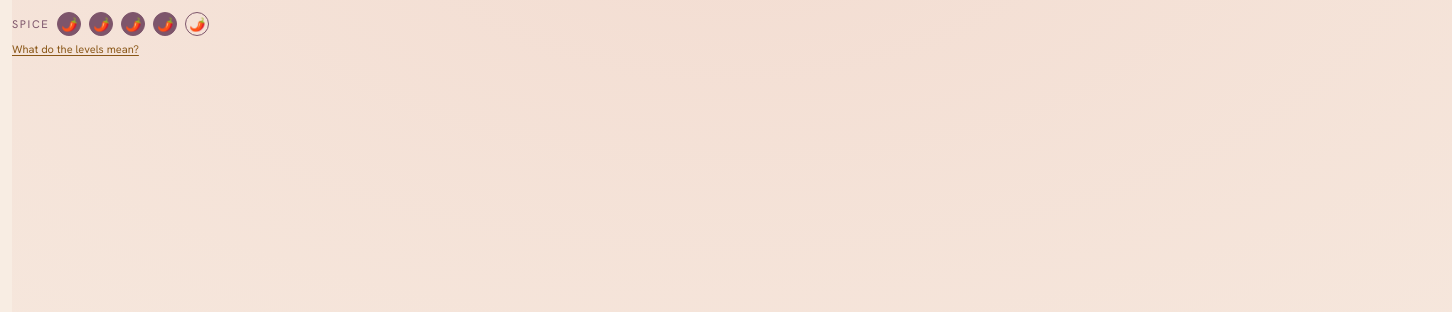
Test: LevelPicker — dismissal sticks › the re-entry link opens the guide ANYWAY, at the current value
The image size is (1452, 312).
Click the button named "Spice 2 —".
click(101, 24)  # box [89,12,113,36]
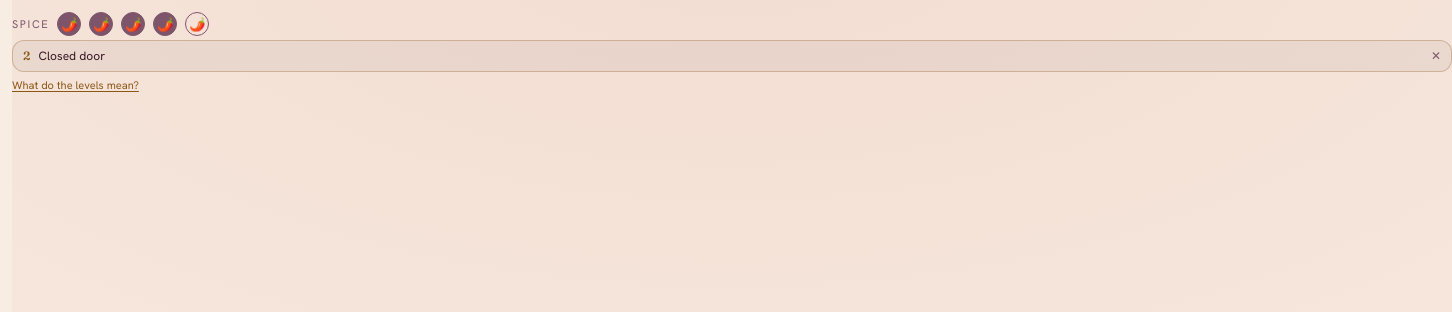
Press Escape
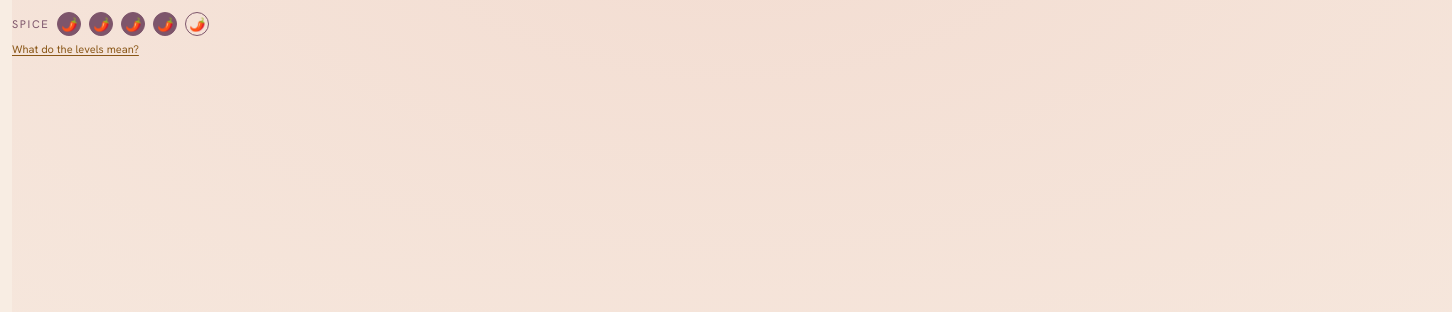
Check: the message "2 Closed door ✕" is gone
Click the button "What do the levels mean?".
click(75, 49)  # box [12,41,139,58]
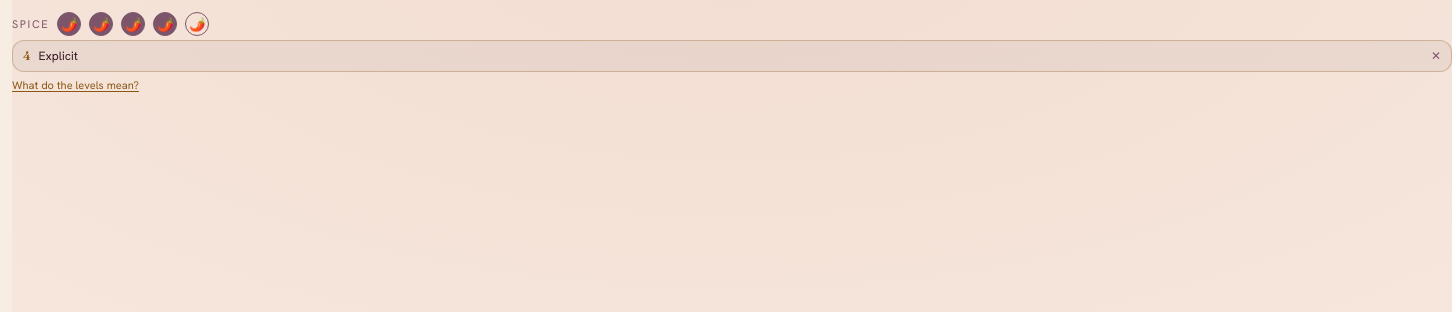
Check: the message shows "Explicit", box [39,48,78,64]
